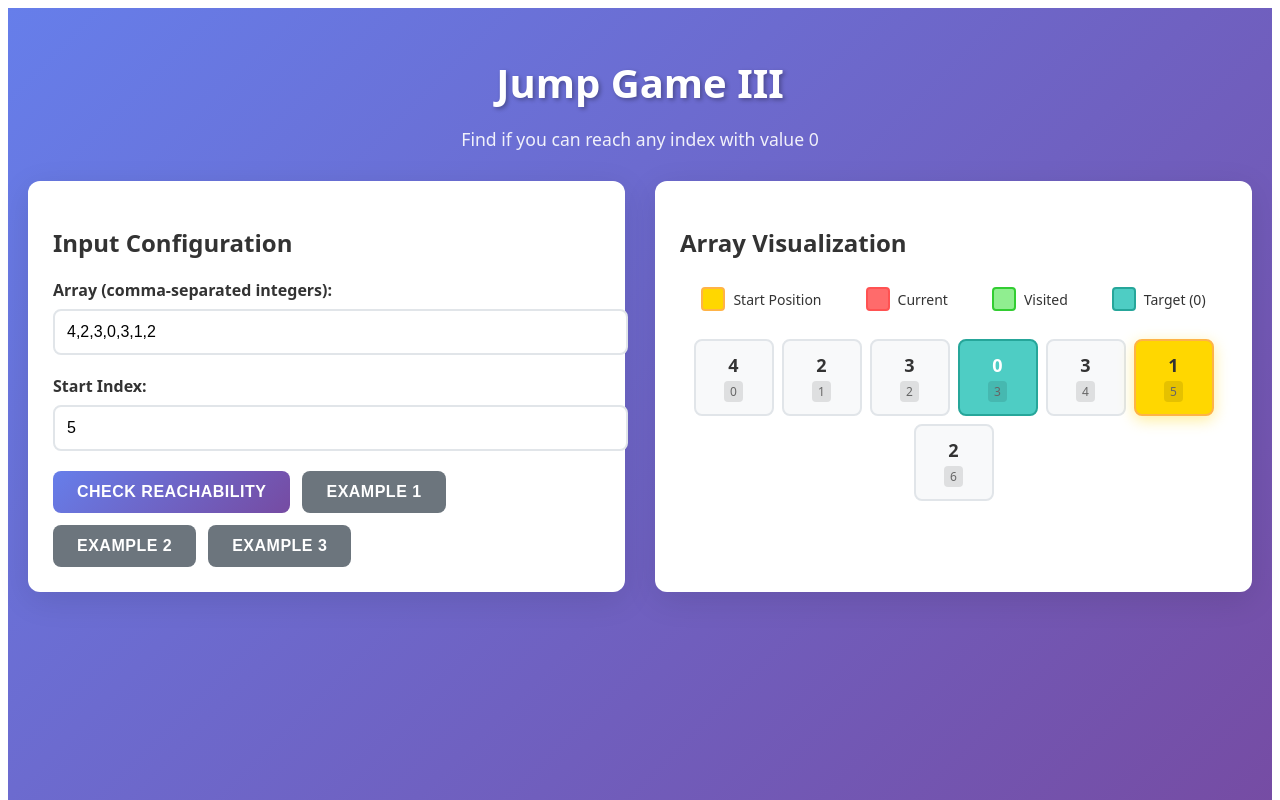
Test: JumpGame Component › shows error for invalid array input
Replace the text in the field with test id "array-input" with "invalid,input" at {"x": 340, "y": 332}, box [53,309,628,355]
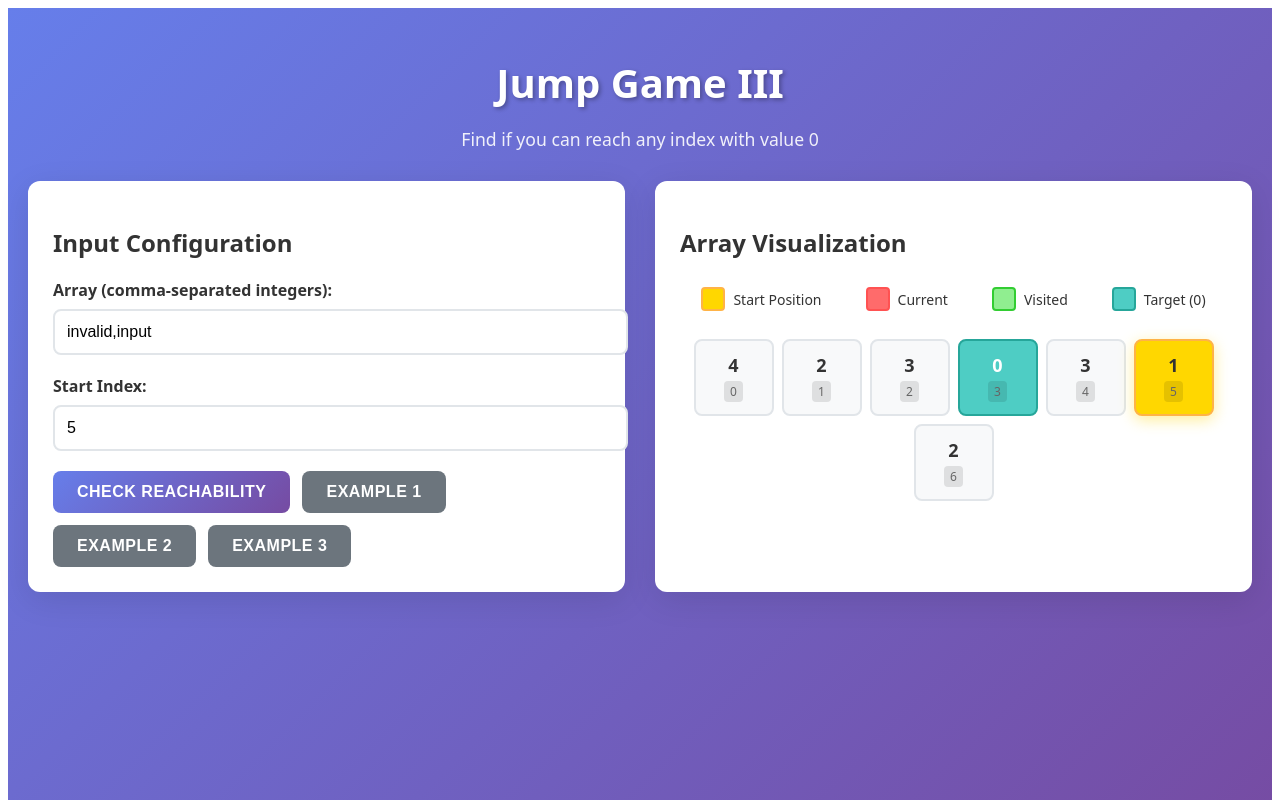
Click the button with test id "calculate-btn" at {"x": 172, "y": 492}, box [53,471,290,513]
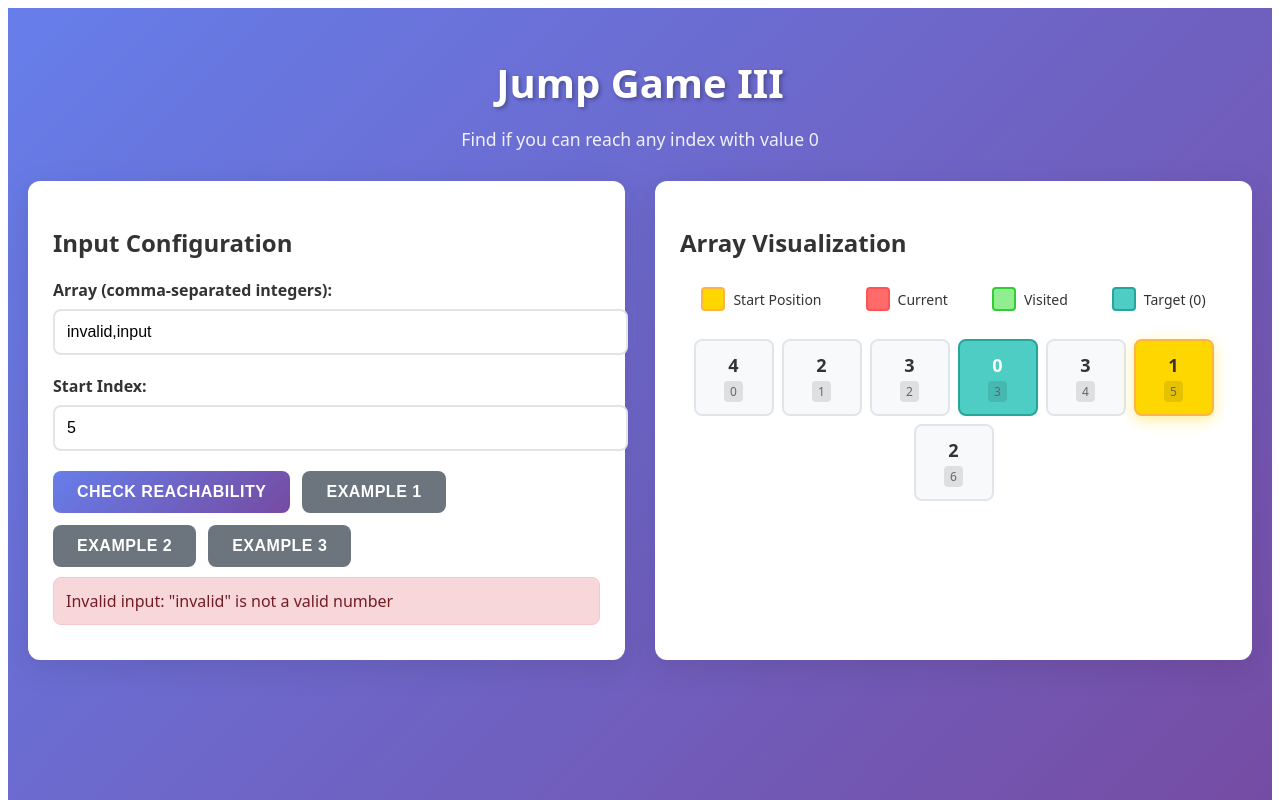
Result: the text "Invalid input: \"invalid\" is not a valid number" is shown at [53,577,600,625]
